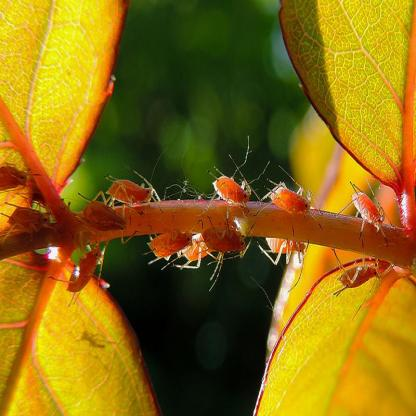aphid: (203, 159, 261, 211), (268, 174, 320, 223), (194, 216, 249, 262), (61, 238, 106, 294), (335, 252, 394, 291), (263, 225, 310, 273), (346, 178, 391, 228), (142, 228, 200, 264), (80, 192, 126, 236), (103, 170, 156, 208), (2, 197, 57, 233), (178, 231, 221, 269), (0, 165, 30, 194)
